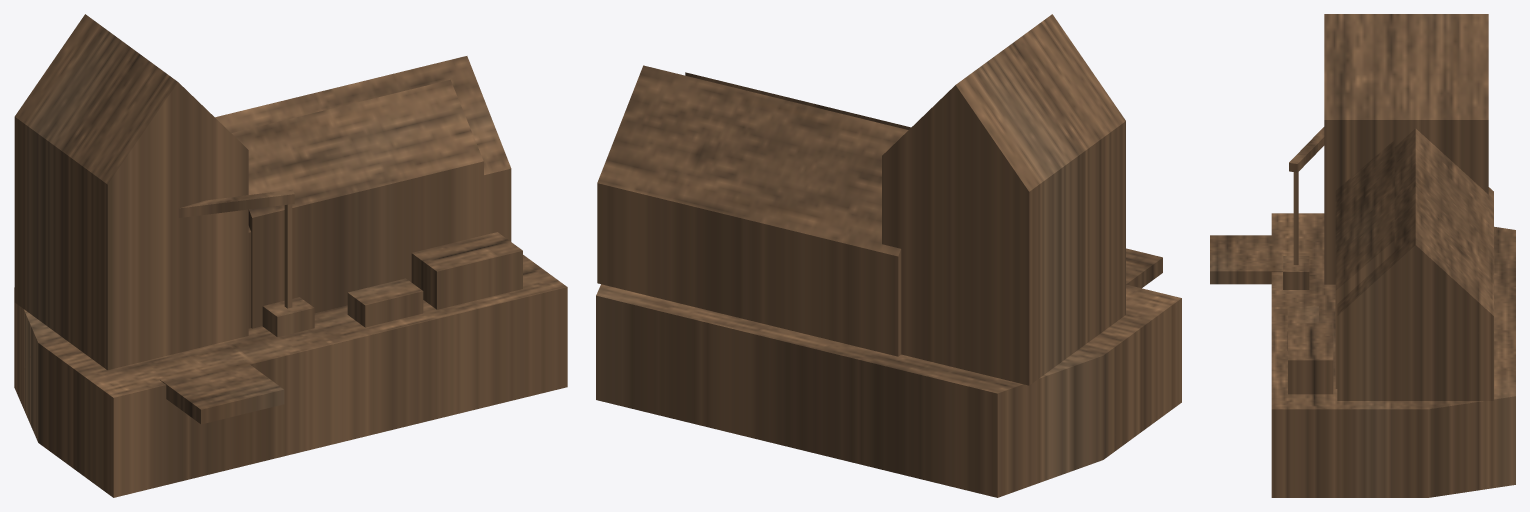
The model's file is brick-selection.fbx.
3 renders of one model, left to right at view 1: azimuth 30°, elevation 25°; view 2: azimuth 150°, elevation 25°; view 3: azimuth 270°, elevation 25°, orthographic. The views are drawn at different scales.
Parts seen in each view (by area): view 1: PickVolume; view 2: PickVolume; view 3: PickVolume.
Part boxes in pixels (box(x1,y1,x2,y2)): PickVolume: box(14, 14, 567, 497); PickVolume: box(596, 14, 1181, 497); PickVolume: box(1210, 14, 1515, 497).
Size of the model in its own units: 0.0245 by 0.0191 by 0.0161.
